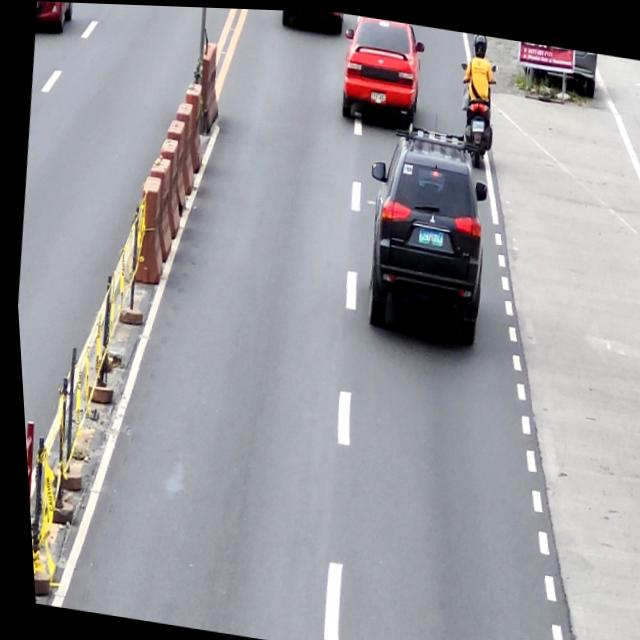Car: (347, 115, 499, 343), (334, 11, 431, 126)
License-Plate: (413, 222, 441, 244), (368, 87, 385, 101), (469, 116, 483, 130)
Motorcycle: (446, 55, 503, 166)
